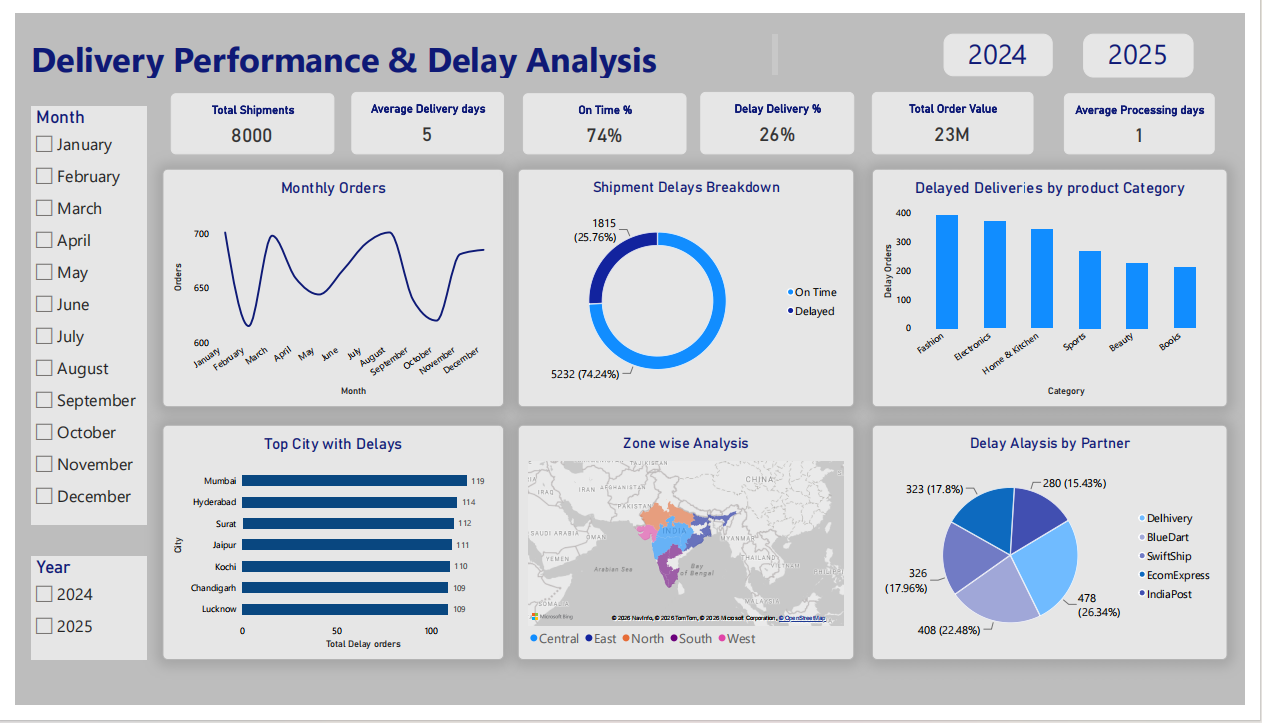

This screenshot's page, from the dashboard's own definition file:
{"tool":"powerbi","page":{"name":"Page 1","canvas":[1920,1080],"ordinal":0},"visuals":[{"type":"textbox","box":[25,32.5,1165,67.5],"z":0},{"type":"textbox","box":[1668,32,172,68],"z":1000},{"type":"advanceCardE03760C5AB684758B56AA29F9E6C257B","title":"Total Shipments","fields":{"mainMeasure":["Orders.Total Orders"]},"box":[242.5,125,255,95],"z":2000},{"type":"lineChart","title":"Monthly Orders","fields":{"Category":["Date_Table.Month"],"Y":["CountNonNull(Orders.Order_ID)"]},"box":[230,242.5,532.5,372.5],"z":3000},{"type":"barChart","title":"Top City with Delays","fields":{"Category":["Orders.City"],"Y":["Sum(Orders.delay_per)"]},"box":[230,642.5,532.5,367.5],"z":4000},{"type":"donutChart","title":"Shipment Delays Breakdown","fields":{"Category":["Orders.Delivery Performance"],"Y":["Orders.Total Orders"]},"box":[785,242.5,525,372.5],"z":5000},{"type":"filledMap","title":"Zone wise Analysis","fields":{"Category":["Orders.state"],"Series":["Orders.Region"]},"box":[785,642.5,525,367.5],"z":6000},{"type":"columnChart","title":"Delayed Deliveries by product Category","fields":{"Category":["Orders.Product_Category"],"Y":["Sum(Orders.delay_per)"]},"box":[1337.5,242.5,555,372.5],"z":7000},{"type":"pieChart","title":"Delay Alaysis by Partner","fields":{"Category":["Orders.Delivery_Partner"],"Y":["Sum(Orders.delay_per)"]},"box":[1337.5,642.5,555,367.5],"z":8000},{"type":"advanceCardE03760C5AB684758B56AA29F9E6C257B","title":"Average Processing days","fields":{"mainMeasure":["Avg(Orders.Processing Days)"]},"box":[1637.5,125,235,95],"z":9000},{"type":"advanceCardE03760C5AB684758B56AA29F9E6C257B","title":"Total Order Value","fields":{"mainMeasure":["Orders.Total Order Value"]},"box":[1337.5,122.5,252.5,97.5],"z":10000},{"type":"advanceCardE03760C5AB684758B56AA29F9E6C257B","title":"Delay Delivery %","fields":{"mainMeasure":["Orders.Delivery Delay %"]},"box":[1070,122.5,240,97.5],"z":11000},{"type":"advanceCardE03760C5AB684758B56AA29F9E6C257B","title":"On Time %","fields":{"mainMeasure":["Orders.On-Time Delivery %"]},"box":[792.5,125,255,95],"z":12000},{"type":"advanceCardE03760C5AB684758B56AA29F9E6C257B","title":"Average Delivery days","fields":{"mainMeasure":["Orders.Average Delivery Days"]},"box":[525,122.5,237.5,97.5],"z":13000},{"type":"textbox","box":[1450,32,170,66],"z":14000},{"type":"slicer","fields":{"Values":["Date_Table.Month"]},"box":[25,145,180,652.5],"z":15000},{"type":"slicer","fields":{"Values":["Date_Table.Year"]},"box":[25,847.5,180,162.5],"z":15001}]}

Visuals, with their boxes in screenshot pixels (x1, y1, x2, y2), scaled from the page's 1920x1080 canvas onto the 1262x723 screenshot:
textbox: {"left": 16, "top": 22, "right": 782, "bottom": 67}
textbox: {"left": 1096, "top": 21, "right": 1209, "bottom": 67}
"Total Shipments" advanceCardE03760C5AB684758B56AA29F9E6C257B: {"left": 159, "top": 84, "right": 327, "bottom": 147}
"Monthly Orders" lineChart: {"left": 151, "top": 162, "right": 501, "bottom": 412}
"Top City with Delays" barChart: {"left": 151, "top": 430, "right": 501, "bottom": 676}
"Shipment Delays Breakdown" donutChart: {"left": 516, "top": 162, "right": 861, "bottom": 412}
"Zone wise Analysis" filledMap: {"left": 516, "top": 430, "right": 861, "bottom": 676}
"Delayed Deliveries by product Category" columnChart: {"left": 879, "top": 162, "right": 1244, "bottom": 412}
"Delay Alaysis by Partner" pieChart: {"left": 879, "top": 430, "right": 1244, "bottom": 676}
"Average Processing days" advanceCardE03760C5AB684758B56AA29F9E6C257B: {"left": 1076, "top": 84, "right": 1231, "bottom": 147}
"Total Order Value" advanceCardE03760C5AB684758B56AA29F9E6C257B: {"left": 879, "top": 82, "right": 1045, "bottom": 147}
"Delay Delivery %" advanceCardE03760C5AB684758B56AA29F9E6C257B: {"left": 703, "top": 82, "right": 861, "bottom": 147}
"On Time %" advanceCardE03760C5AB684758B56AA29F9E6C257B: {"left": 521, "top": 84, "right": 689, "bottom": 147}
"Average Delivery days" advanceCardE03760C5AB684758B56AA29F9E6C257B: {"left": 345, "top": 82, "right": 501, "bottom": 147}
textbox: {"left": 953, "top": 21, "right": 1065, "bottom": 66}
slicer - Date_Table.Month: {"left": 16, "top": 97, "right": 135, "bottom": 534}
slicer - Date_Table.Year: {"left": 16, "top": 567, "right": 135, "bottom": 676}
